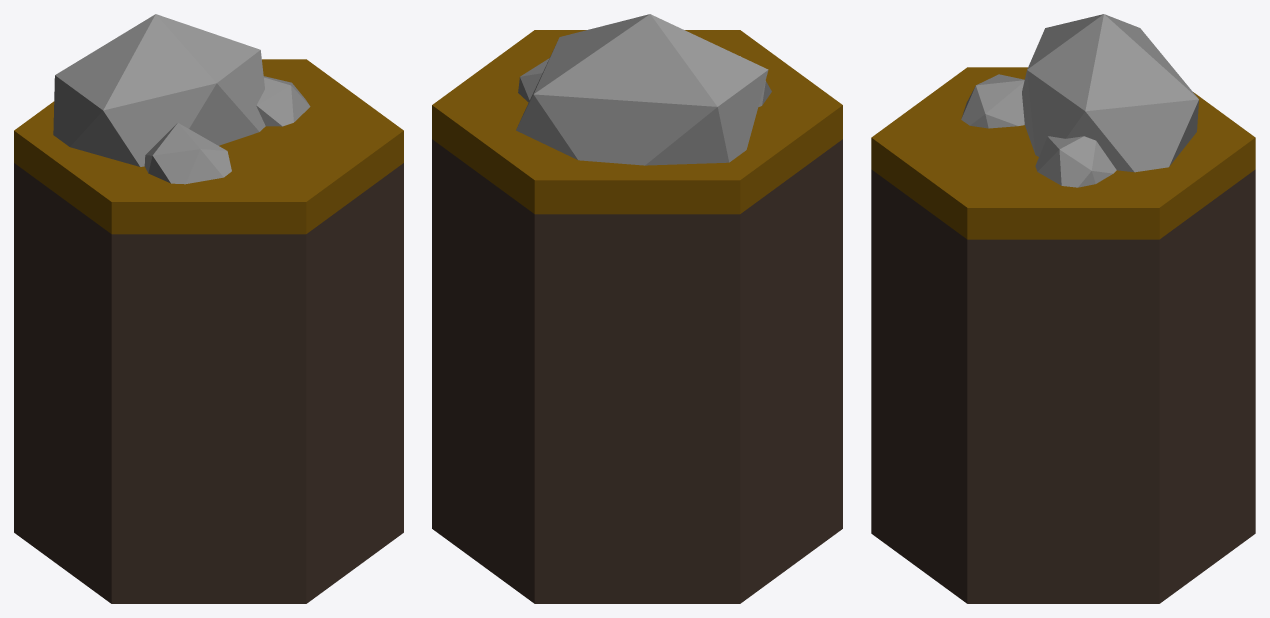
File: StoneOnDeadGroundTile.fbx
The picture shows the model from 3 angles, left to right: view 1: azimuth 30°, elevation 25°; view 2: azimuth 150°, elevation 25°; view 3: azimuth 270°, elevation 25°; orthographic projection. The views are drawn at different scales.
Visible parts, largest first — view 1: Cylinder; view 2: Cylinder; view 3: Cylinder.
Boxes of the visible parts, x1,y1,x2,y2 form: Cylinder: (14,14,403,603); Cylinder: (432,14,842,603); Cylinder: (871,14,1255,603).
Size of the model in its own units: 173 by 290 by 200.
